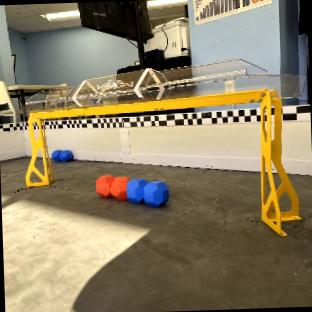V5_BLUE: (127, 179, 168, 206), (52, 150, 72, 161)
V5_RED: (96, 175, 128, 200)
